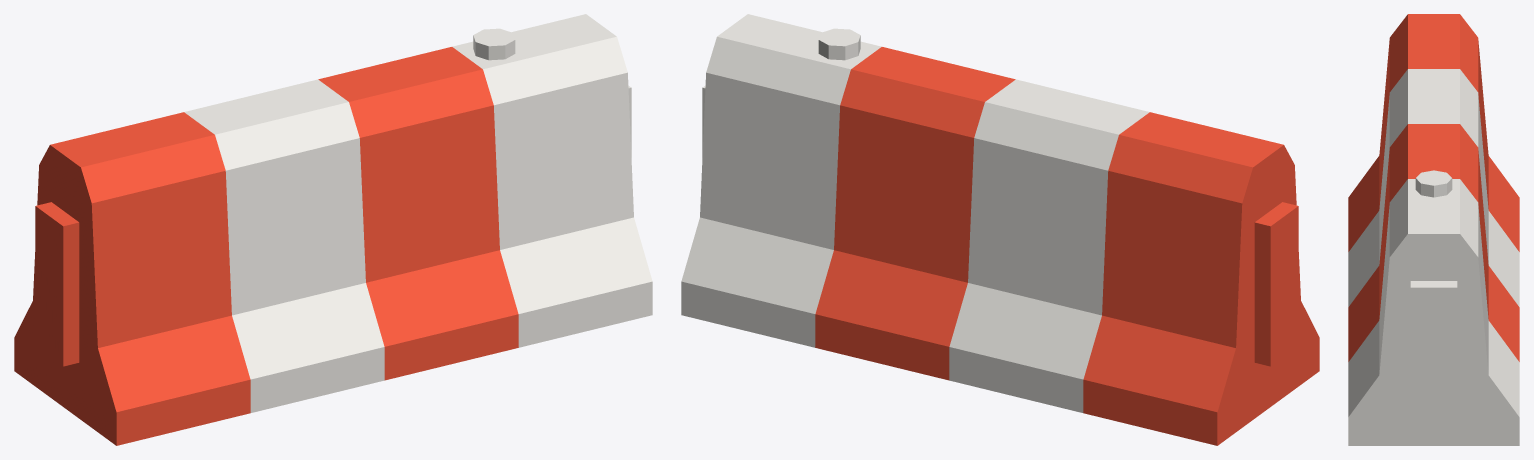
Rendered from barrier_block.glb.
3 renders of one model, left to right at view 1: azimuth 30°, elevation 25°; view 2: azimuth 150°, elevation 25°; view 3: azimuth 270°, elevation 25°, orthographic. The views are drawn at different scales.
Visible parts, largest first — view 1: barrier_block; view 2: barrier_block; view 3: barrier_block.
Part boxes in pixels (x1,y1,x2,y2): barrier_block: [14, 14, 652, 445]; barrier_block: [681, 14, 1319, 445]; barrier_block: [1348, 14, 1519, 445].
Size of the model in its own units: 2.12 by 0.95 by 0.66.
